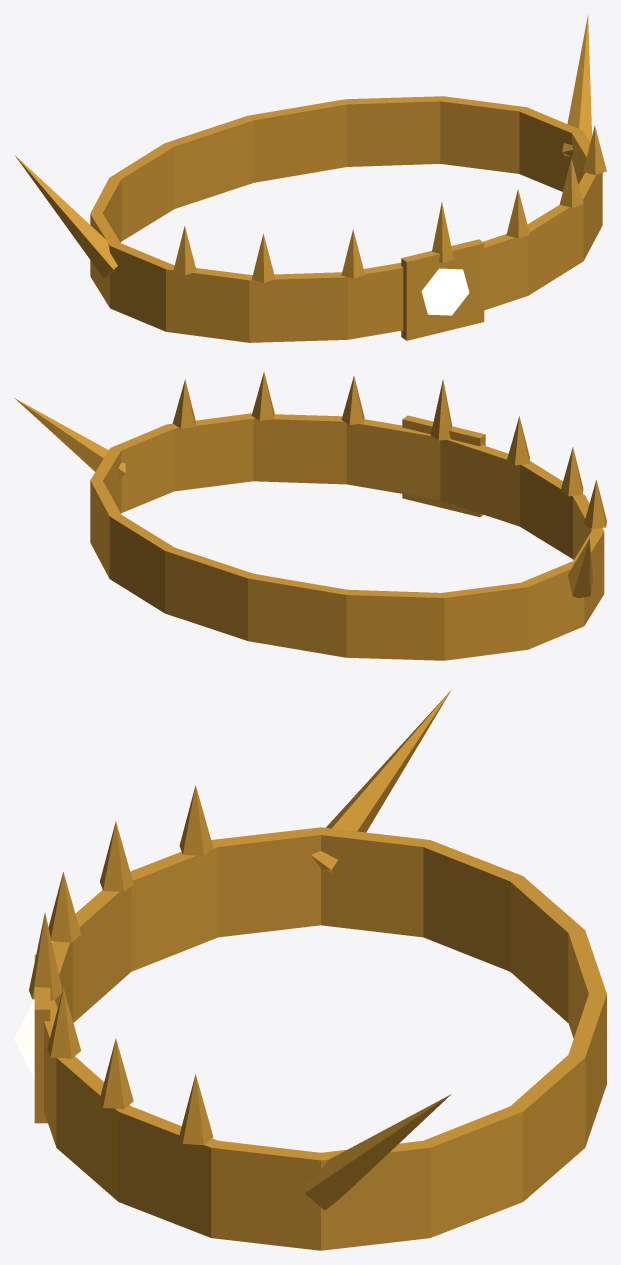
File: armor_guard_head_legendary_orc.glb
The picture shows the model from 3 angles, top to bottom: view 1: azimuth 30°, elevation 25°; view 2: azimuth 150°, elevation 25°; view 3: azimuth 270°, elevation 25°; orthographic projection. The views are drawn at different scales.
Parts seen in each view (by area): view 1: armor_guard_head_legendary_orc__head; view 2: armor_guard_head_legendary_orc__head; view 3: armor_guard_head_legendary_orc__head.
Part boxes in pixels (box(x1,y1,x2,y2)): armor_guard_head_legendary_orc__head: box(15, 14, 606, 342); armor_guard_head_legendary_orc__head: box(14, 371, 606, 660); armor_guard_head_legendary_orc__head: box(14, 690, 606, 1250).
Bounding box in the file's own units: 73.97 × 17.43 × 45.81.
